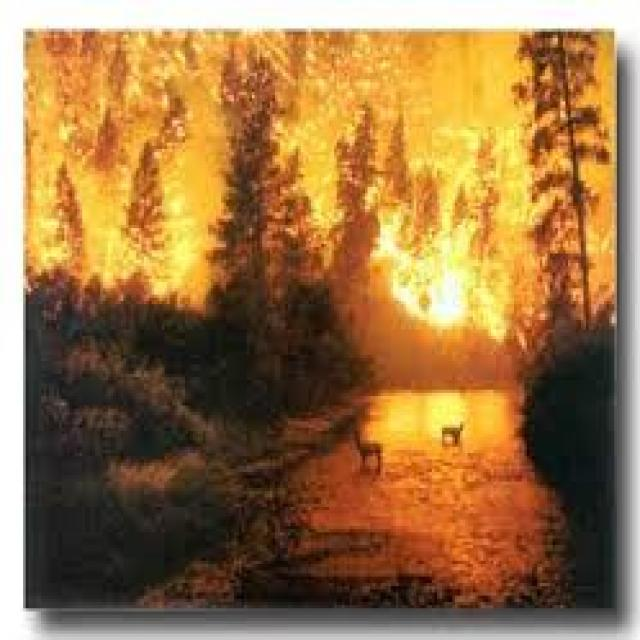Smoke: (25, 35, 616, 348)
